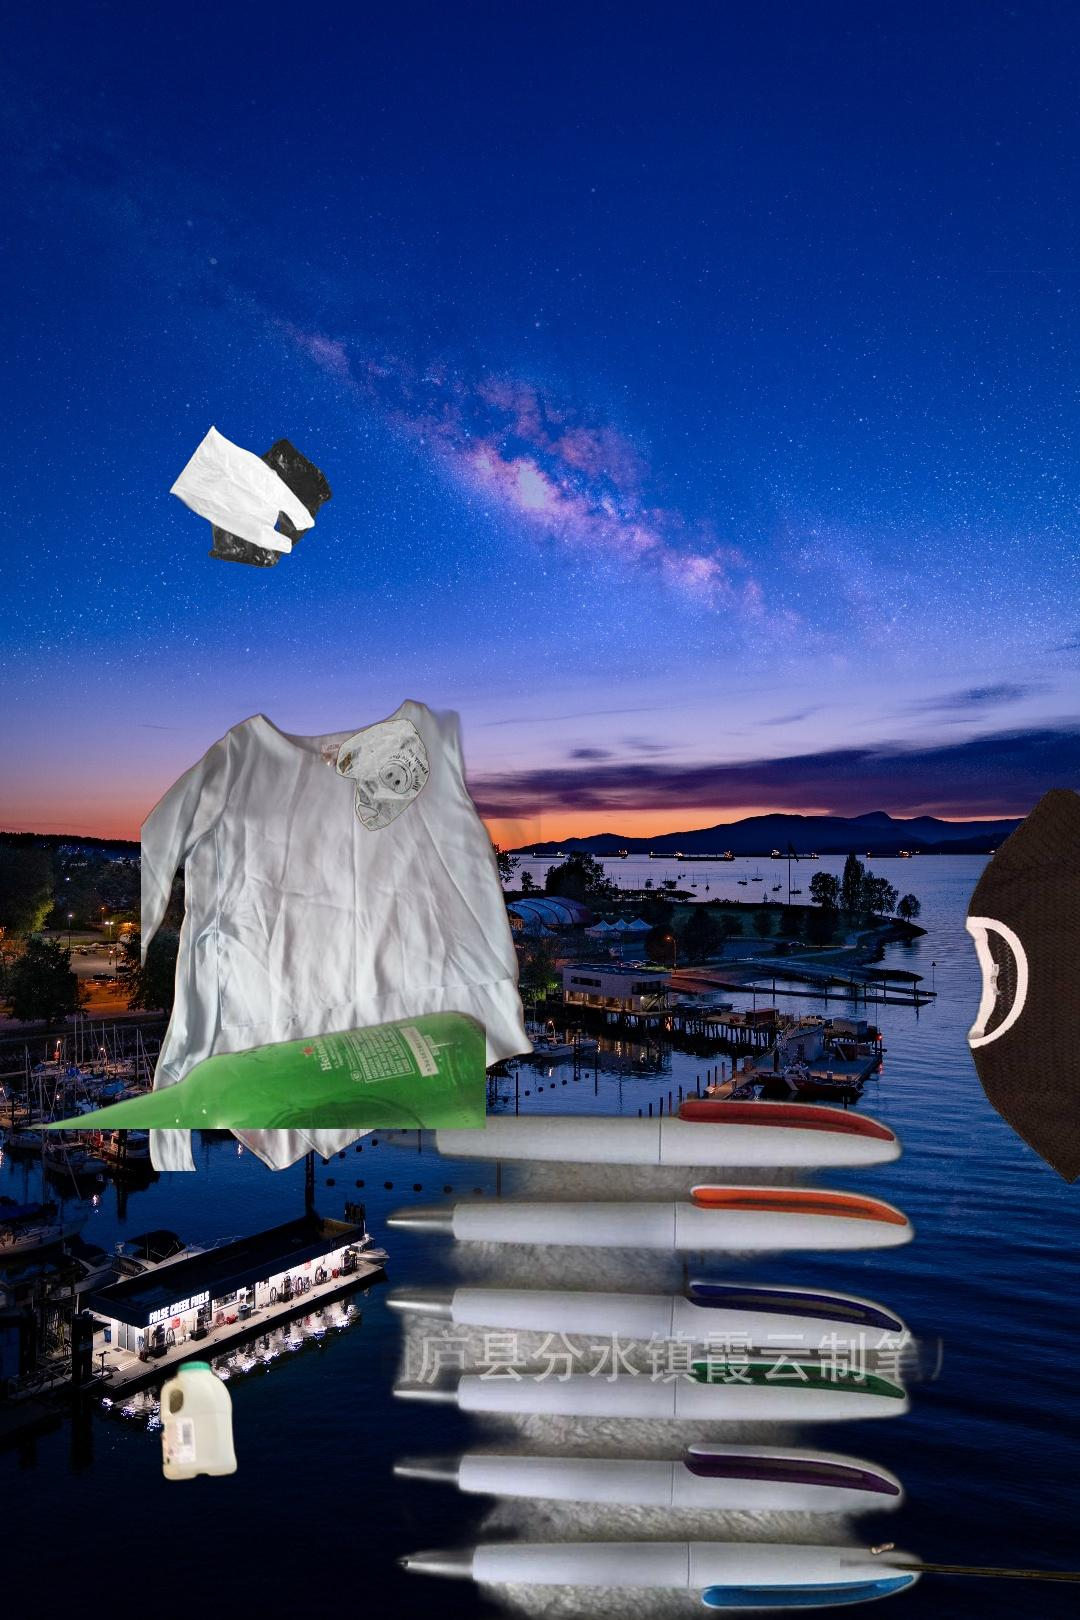clothes: (141, 694, 541, 1170), (958, 790, 1080, 1188)
glass: (14, 1008, 486, 1129)
metal-cans: (840, 1411, 1080, 1620)
penholder: (351, 1088, 1047, 1620)
plastic-bag: (166, 422, 335, 569), (333, 717, 432, 834)
plastic-bottles: (153, 1354, 242, 1512)
